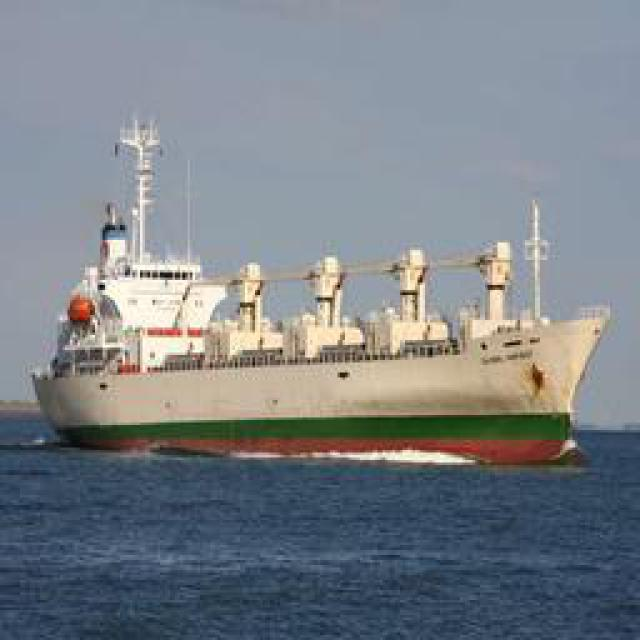Ship: (41, 164, 606, 459)
